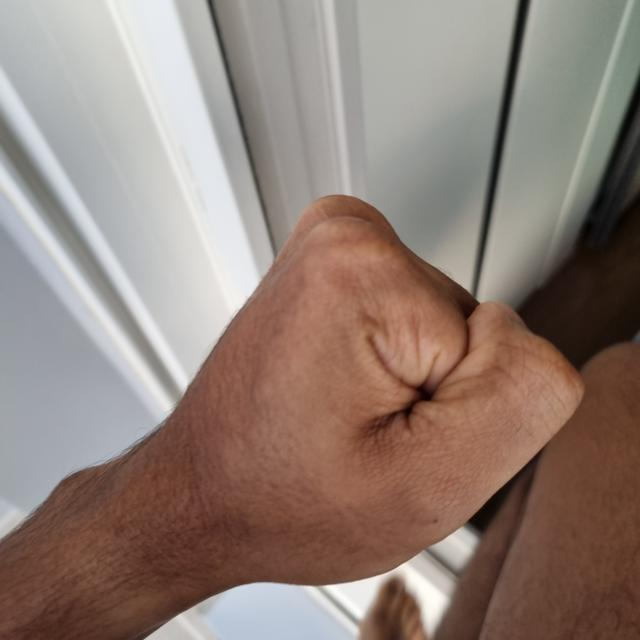Rock: (118, 193, 585, 587)
